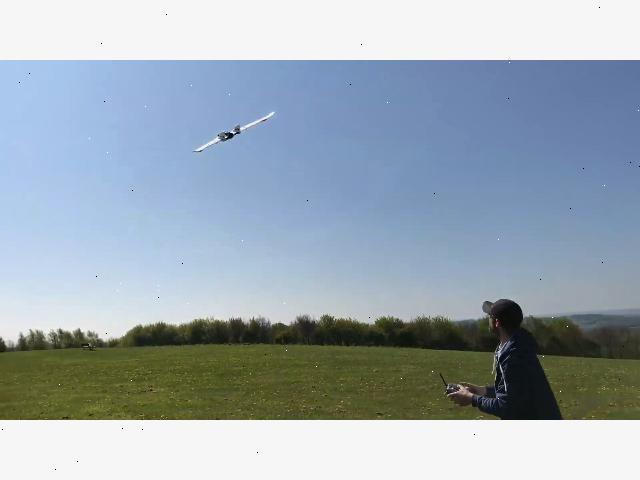Anti-Drone: (164, 86, 316, 180)
